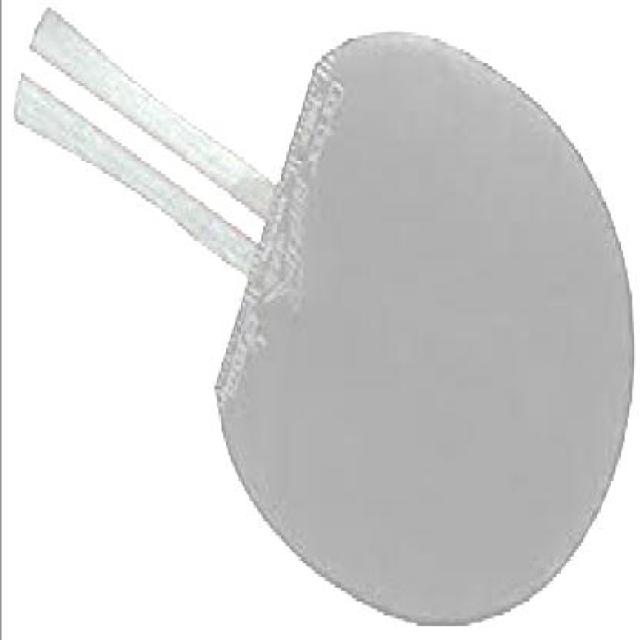table_tennis_racket: (215, 17, 639, 632)
